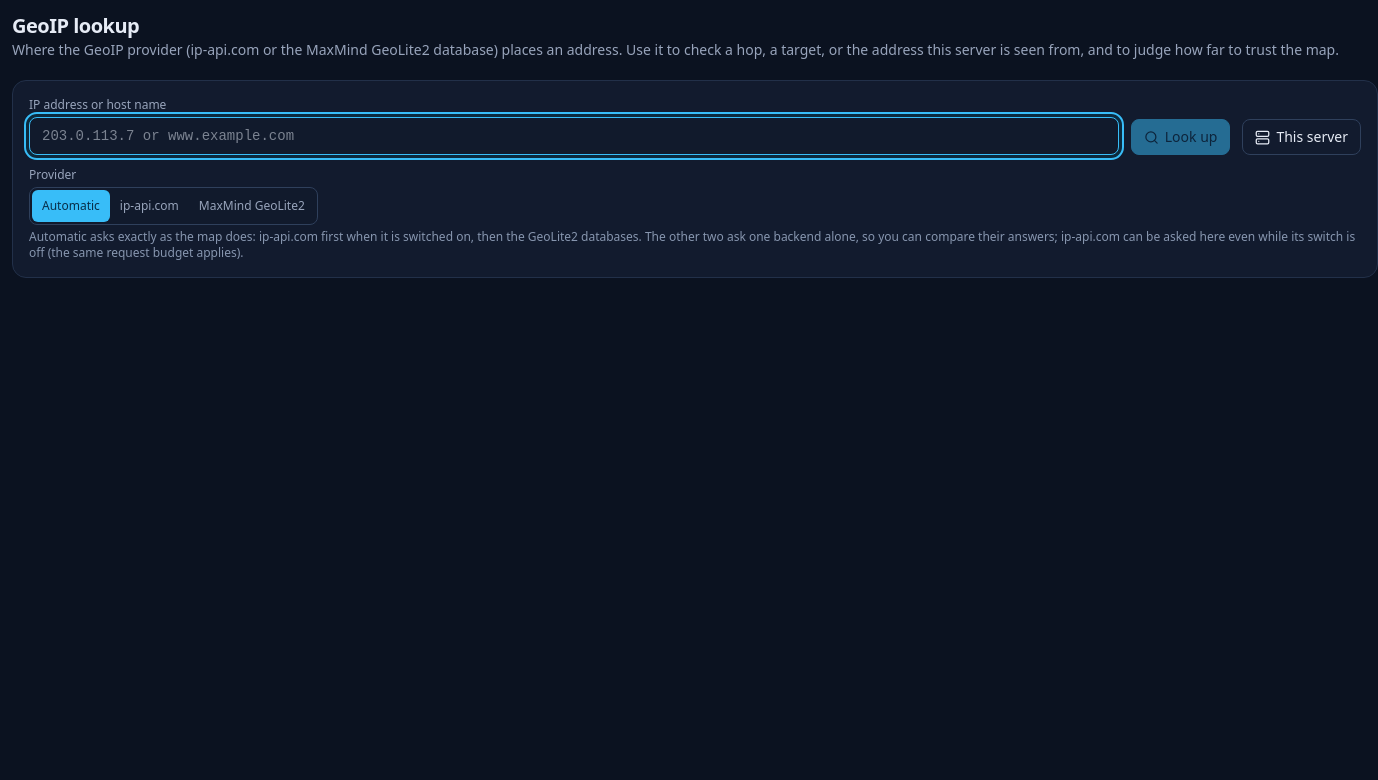
GeoIP lookup page › explains a private address and a missing database
Type "10.0.0.1" into the field labelled "IP address or host name". click: coordinates (574, 136)
box: [29,117,1119,155]
Then press Enter
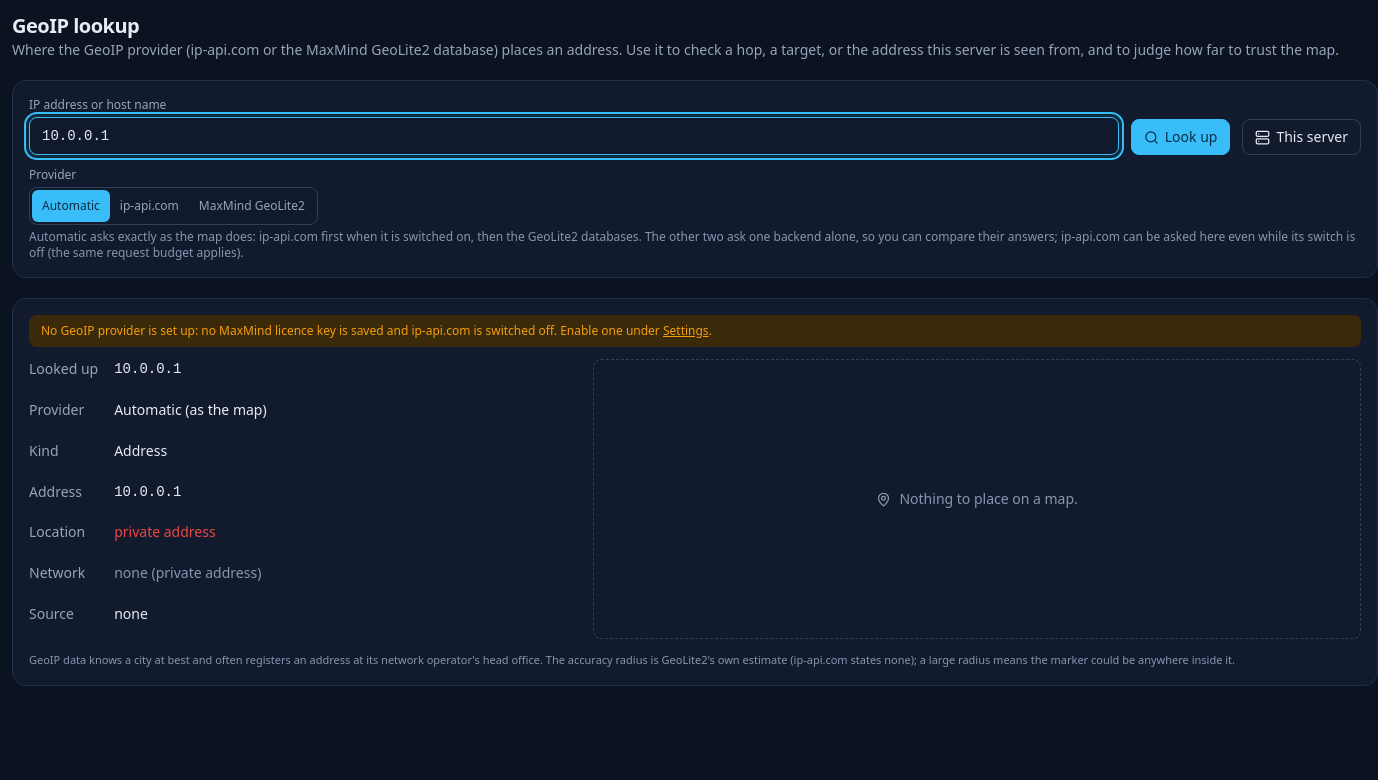
Now the element named "Lookup result" shows "private address", box [114,522,216,541]
Now the text "No GeoIP provider is set up: no MaxMind licence key is saved and ip-api.com is switched off" is shown, box [41,322,663,339]
Now the text "Nothing to place on a map." is shown, box [876,489,1078,509]
